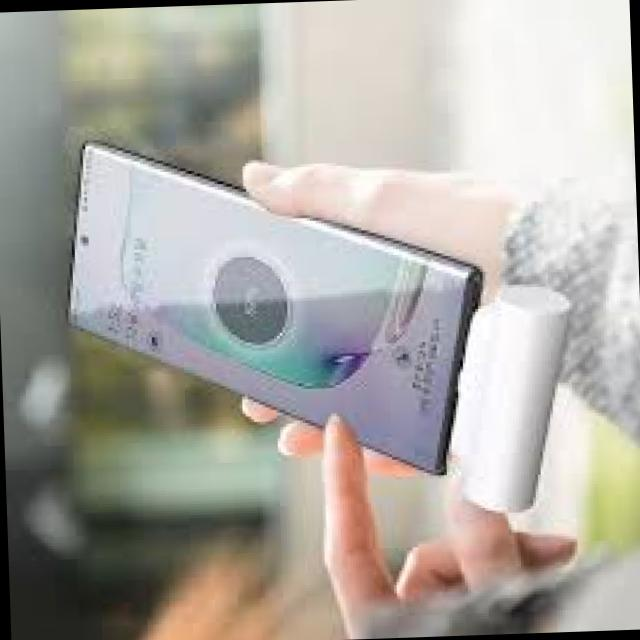power_bank: (438, 279, 582, 512)
